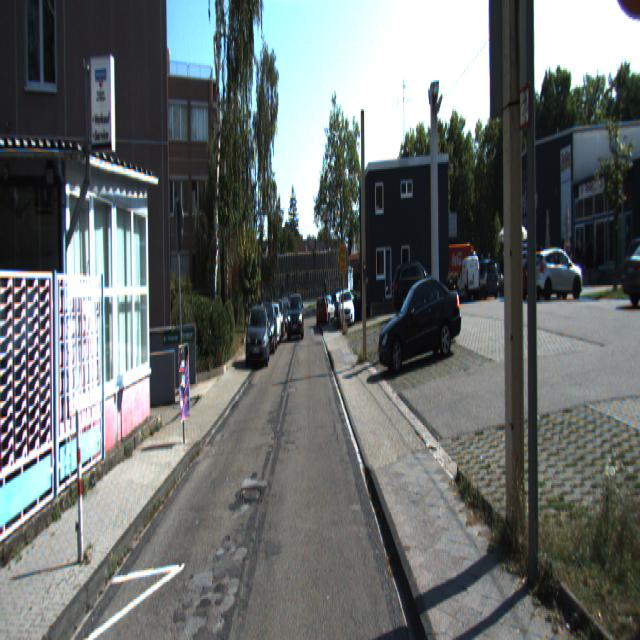Car: (375, 273, 467, 381), (531, 246, 586, 302), (393, 263, 442, 324), (517, 254, 571, 306), (245, 300, 271, 369), (618, 228, 640, 308), (456, 256, 481, 304), (475, 256, 501, 300), (287, 294, 305, 342), (338, 288, 356, 328)
